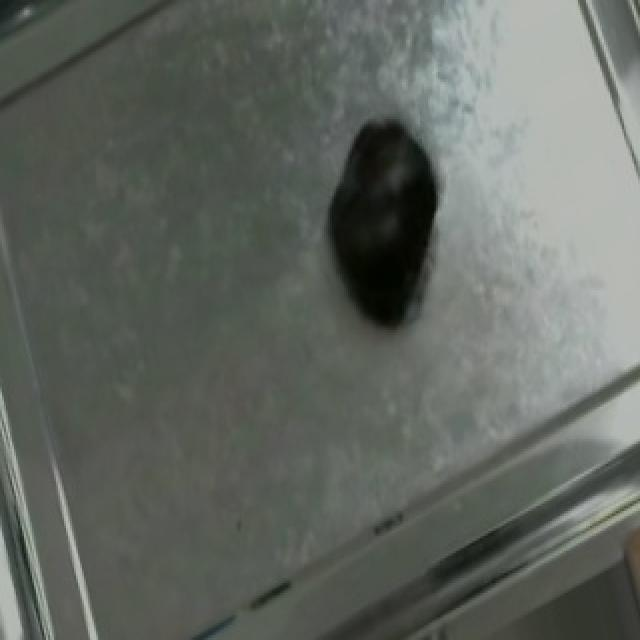Fruit: (312, 104, 460, 305)
